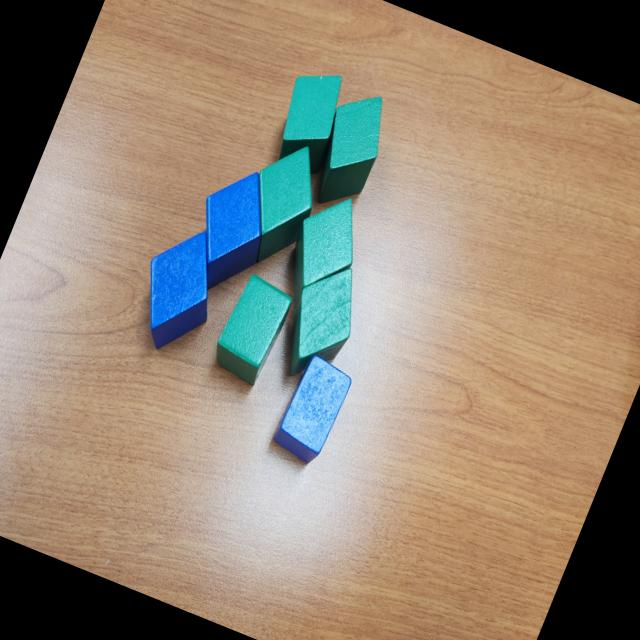blue: (121, 216, 238, 362), (175, 158, 287, 304), (269, 351, 357, 468)
green: (228, 132, 334, 274), (268, 252, 374, 393), (270, 184, 374, 324), (300, 82, 398, 216), (206, 269, 298, 388), (264, 58, 354, 175)
